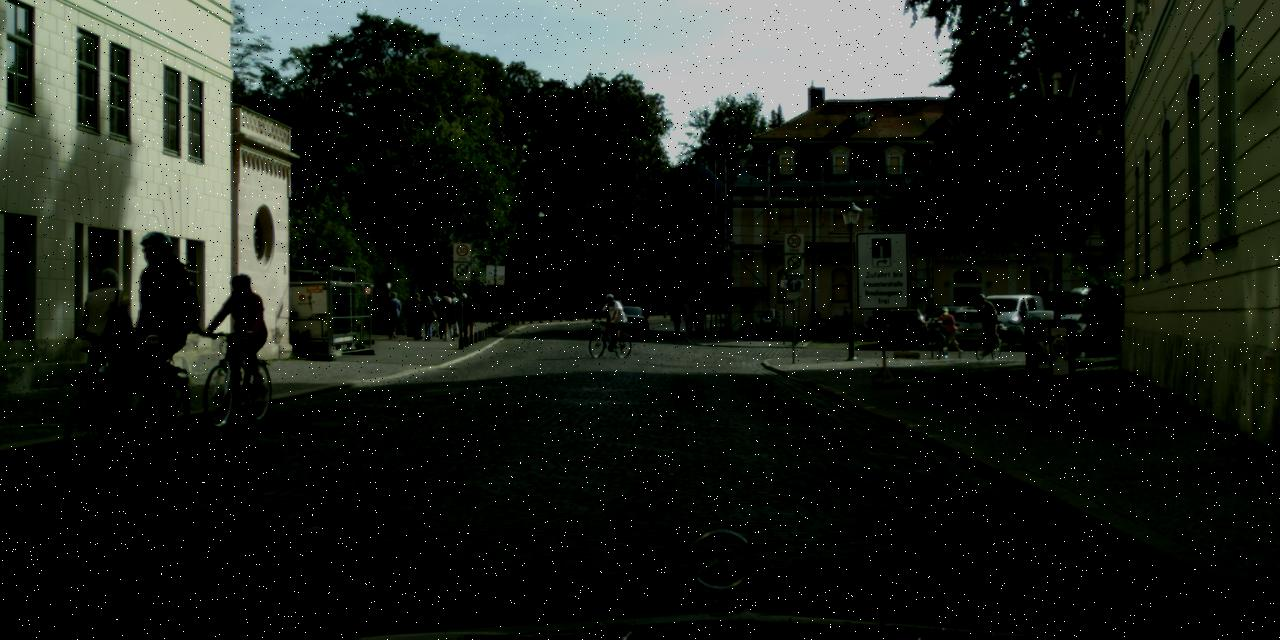ped: (109, 230, 190, 428), (77, 267, 137, 415), (217, 272, 269, 399), (402, 290, 462, 342), (974, 293, 998, 351), (598, 292, 619, 344), (938, 308, 958, 356), (383, 292, 402, 338), (459, 295, 477, 339), (681, 298, 696, 334), (670, 300, 684, 338), (690, 298, 704, 334), (497, 300, 511, 321), (488, 305, 492, 314), (464, 293, 466, 297)
